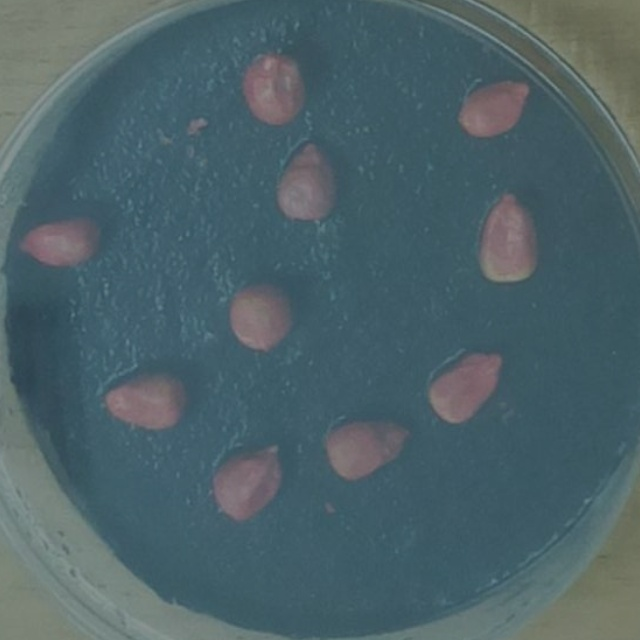Zea mays: (419, 339, 512, 432), (470, 183, 547, 291), (205, 430, 289, 525), (318, 408, 419, 485), (95, 362, 196, 436), (269, 130, 346, 226), (234, 39, 312, 133), (221, 270, 303, 359), (451, 66, 540, 147), (9, 205, 108, 272)
